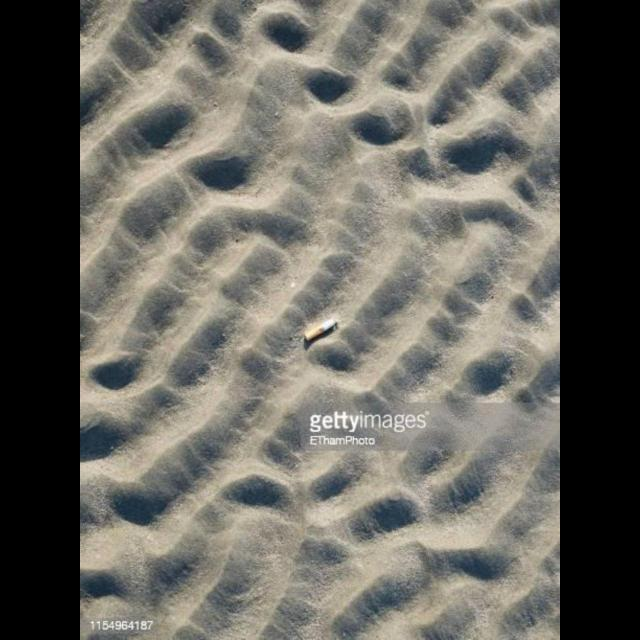cigarette: (305, 320, 337, 342)
